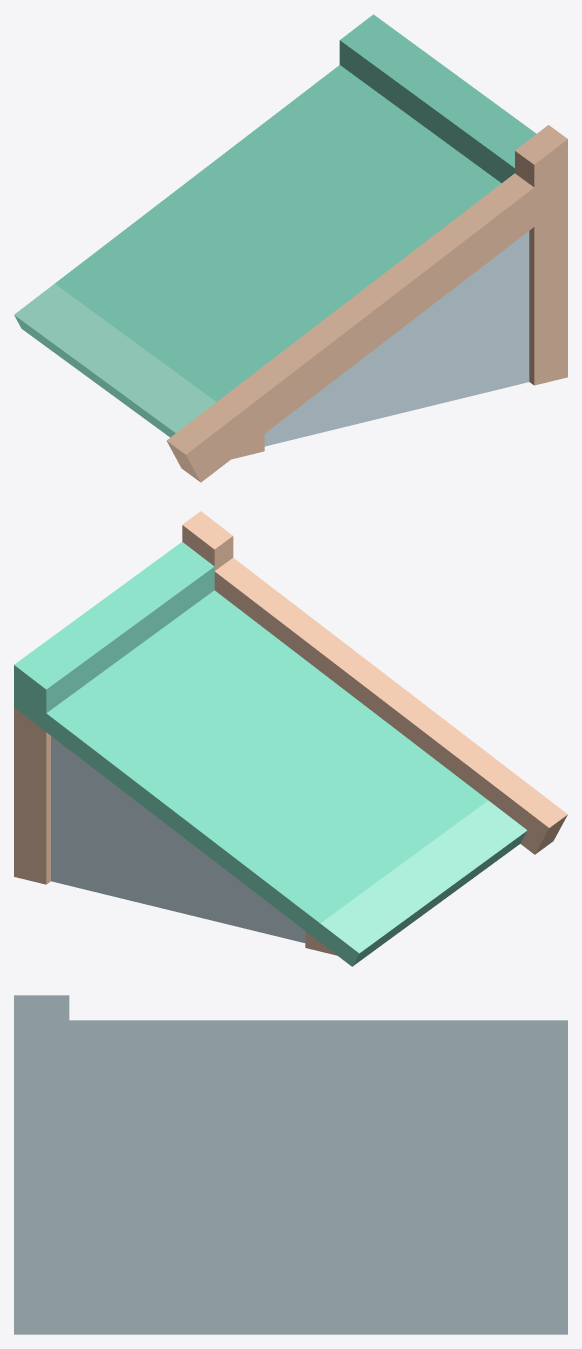
The picture shows the model from 3 angles, top to bottom: view 1: azimuth 30°, elevation 25°; view 2: azimuth 150°, elevation 25°; view 3: azimuth 270°, elevation 25°; orthographic projection. The views are drawn at different scales.
Visible parts, largest first — view 1: roofRight; view 2: roofRight; view 3: roofRight.
Boxes of the visible parts, bbox=[...] form: roofRight: bbox=[14, 14, 567, 482]; roofRight: bbox=[14, 511, 567, 966]; roofRight: bbox=[14, 995, 567, 1334].
Size of the model in its own units: 1.13 by 0.7206 by 1.
